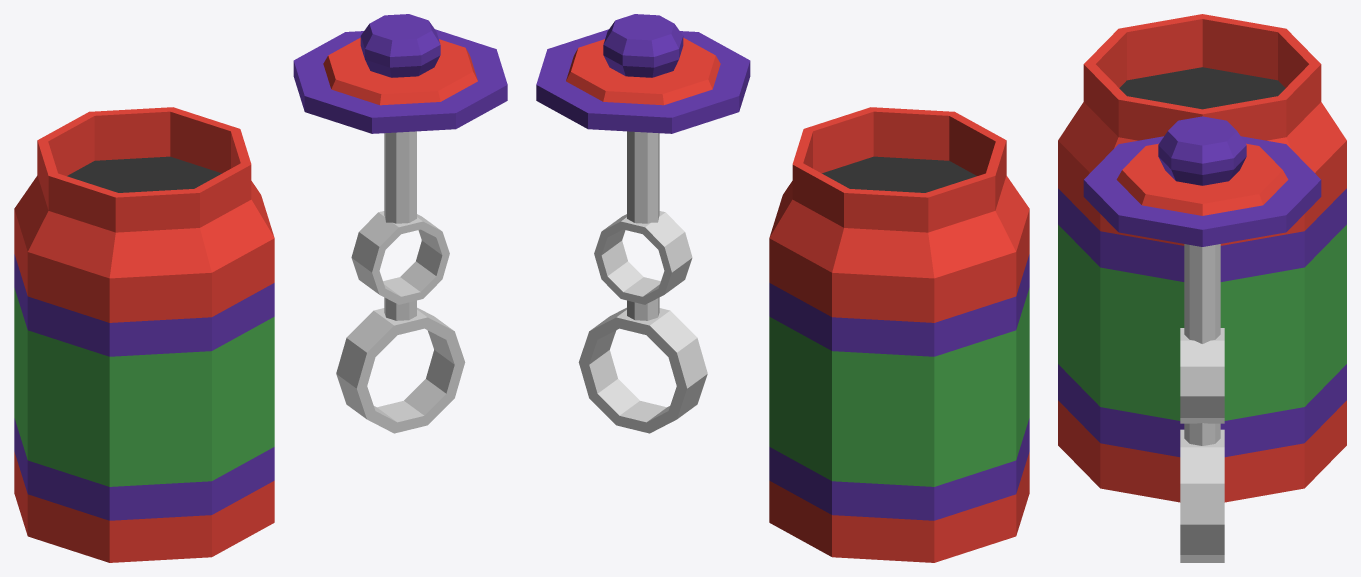
File: Bubble.fbx
3 renders of one model, left to right at view 1: azimuth 30°, elevation 25°; view 2: azimuth 150°, elevation 25°; view 3: azimuth 270°, elevation 25°, orthographic. The views are drawn at different scales.
Parts seen in each view (by area): view 1: Bubble; view 2: Bubble; view 3: Bubble.
Part boxes in pixels (box(x1,y1,x2,y2)): Bubble: box(14, 14, 507, 562); Bubble: box(536, 14, 1029, 562); Bubble: box(1058, 14, 1346, 562).
Size of the model in its own units: 15.01 by 12.8 by 7.48.
Materials: 1 (1 with a texture image).
